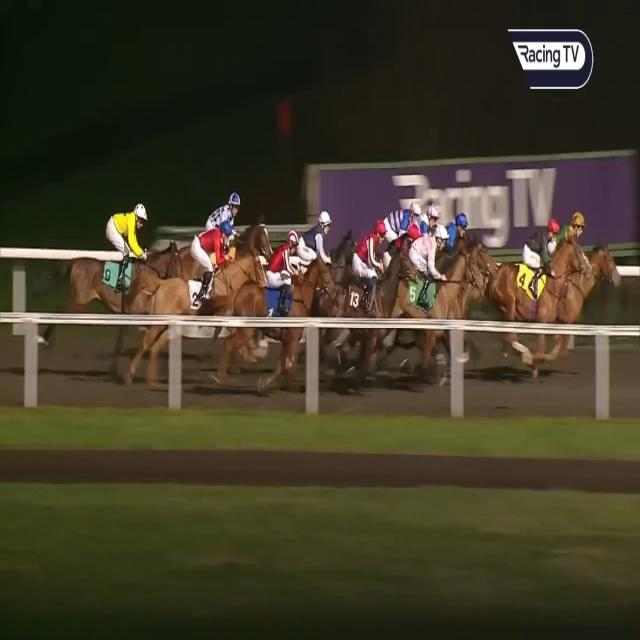horses-racing: (341, 214, 405, 346), (88, 195, 154, 317), (501, 216, 561, 341), (181, 218, 249, 318), (392, 222, 449, 334), (259, 222, 306, 338), (291, 205, 338, 299), (548, 209, 604, 282), (205, 180, 251, 252), (381, 195, 419, 257), (407, 197, 443, 250), (446, 205, 478, 263), (389, 216, 419, 254)
